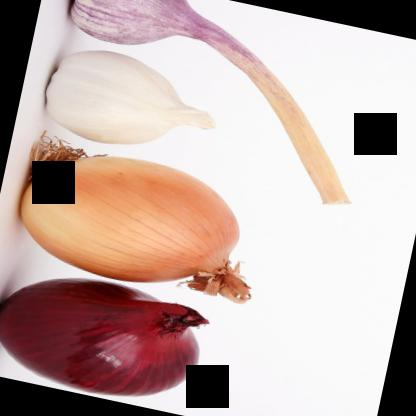garlic: (36, 38, 222, 166), (63, 0, 273, 74)
onion: (4, 140, 269, 308), (0, 257, 214, 413)
